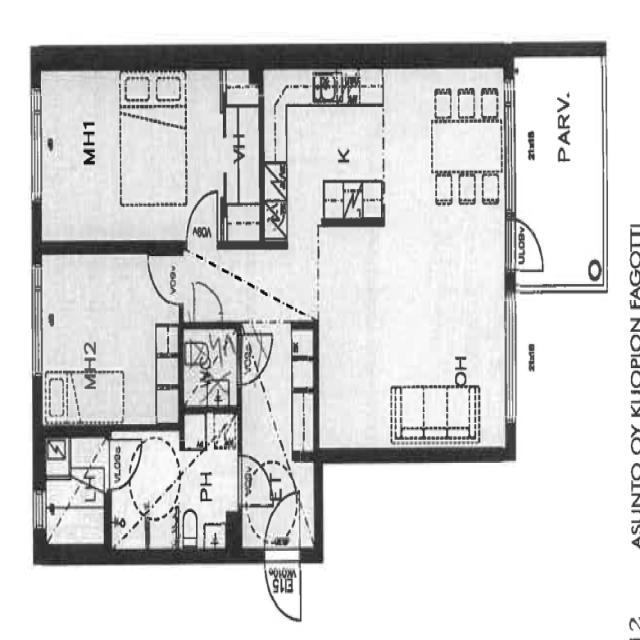door: (261, 483, 304, 622), (144, 248, 186, 308), (183, 189, 220, 254), (106, 430, 144, 492), (235, 453, 274, 506), (240, 328, 270, 388), (37, 492, 59, 529), (44, 500, 68, 530)
window: (501, 78, 520, 218), (502, 285, 519, 431), (26, 260, 46, 384), (26, 84, 46, 208), (31, 484, 48, 532)
zone: (312, 200, 508, 449), (266, 71, 514, 223), (36, 67, 224, 244), (38, 248, 179, 427), (510, 47, 606, 294), (239, 309, 315, 551), (105, 421, 241, 551), (42, 432, 107, 546), (223, 67, 260, 235), (181, 321, 239, 409), (505, 212, 548, 272)
